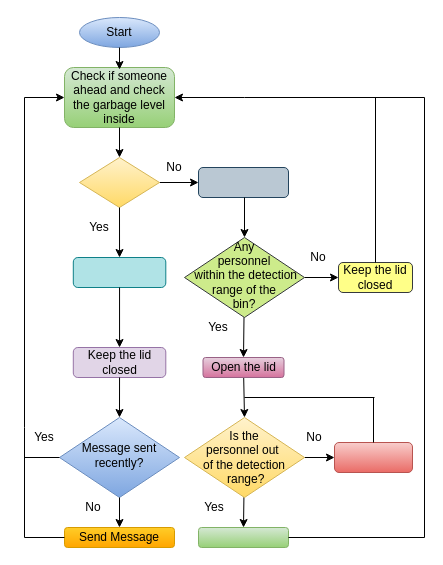
The diagram is 443 pixels wide and 565 high, and some of its shapes have lost their labels. Each missing label, with the centre of its shape:
Bin filled?: the point at 119,182
Close the lid: the point at 243,537
Display %filled up on LCD: the point at 243,182
Display 100% filled up on LCD: the point at 119,272
Keep the lid open: the point at 373,457
